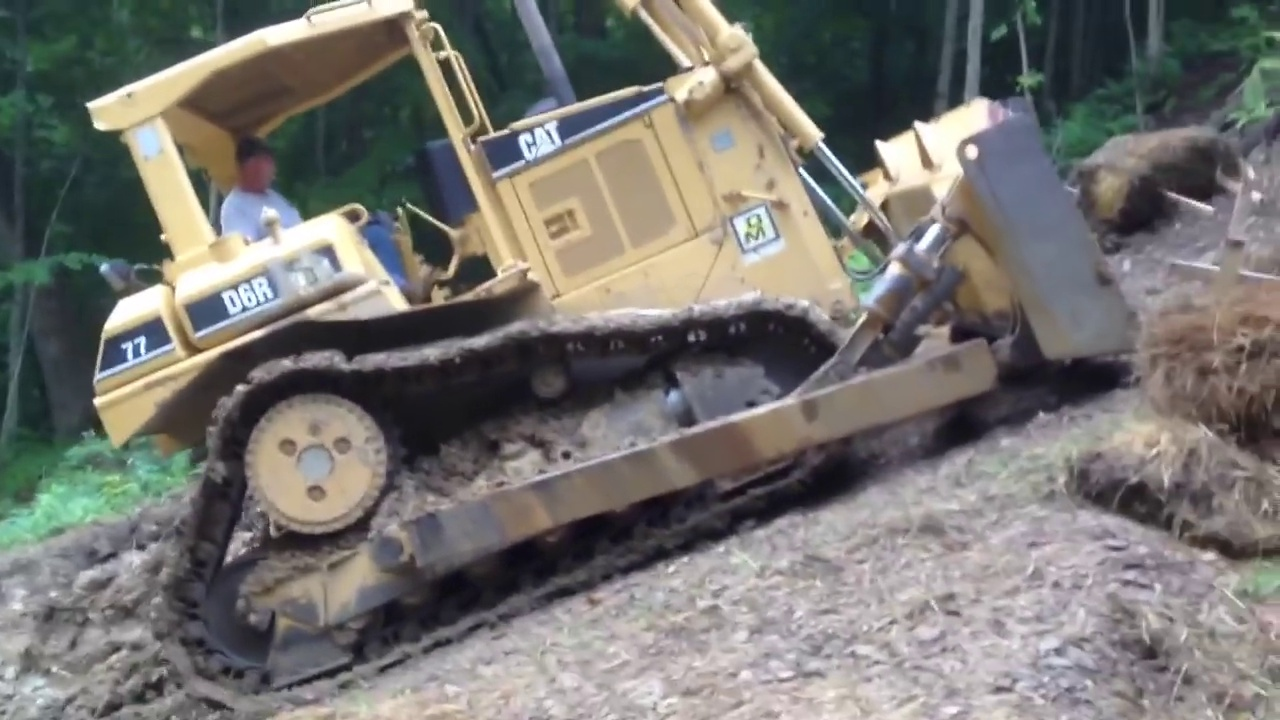bulldozer: (84, 5, 1147, 677)
